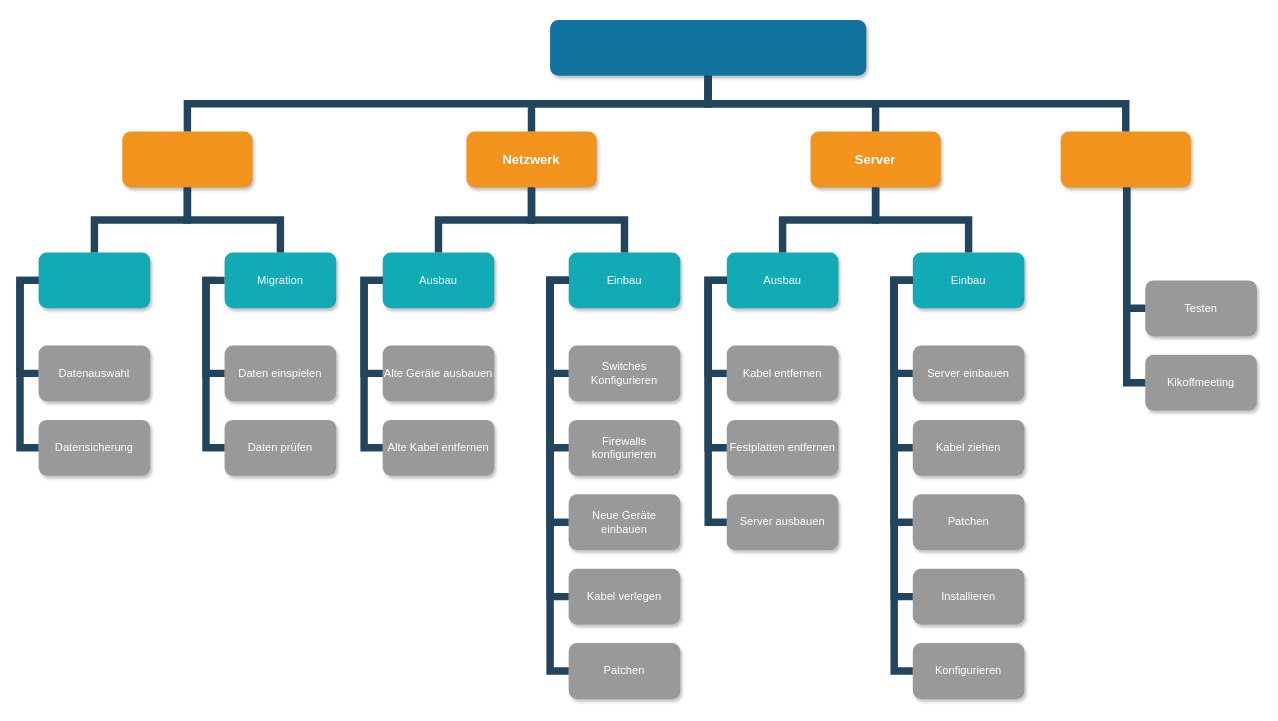
The diagram is 1278 pixels wide and 721 high, and some of its shapes have lost their labels. The shapes that lost their labels are listed below. From the top down, each one's centre as x and y in pixels, then its label:
(708,49): Neuaufbau Serverumgebung
(188,160): Daten
(1126,160): Organisation
(94,281): Sicherung
